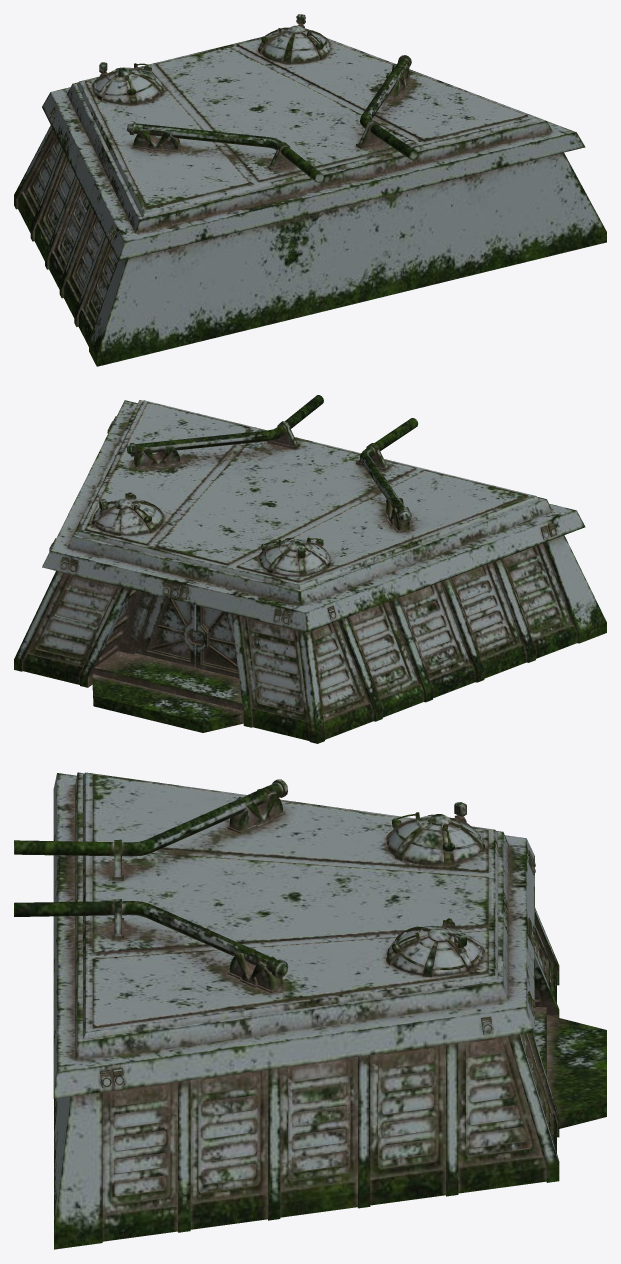
The model's file is bunker.glb.
3 renders of one model, top to bottom at view 1: azimuth 30°, elevation 25°; view 2: azimuth 150°, elevation 25°; view 3: azimuth 270°, elevation 25°, orthographic. The views are drawn at different scales.
Visible parts, largest first — view 1: Bunker; view 2: Bunker; view 3: Bunker.
Part boxes in pixels (box(x1,y1,x2,y2)): Bunker: box(14, 14, 606, 366); Bunker: box(14, 395, 606, 743); Bunker: box(14, 772, 606, 1249).
Bounding box in the file's own units: 2 × 0.5836 × 1.48.
Materials: 1 (1 with a texture image).
